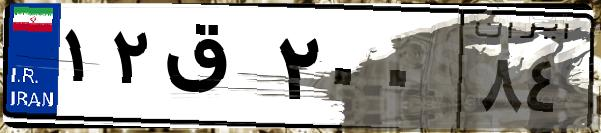0: (385, 28, 445, 110), (330, 28, 385, 110)
1: (57, 26, 110, 100)
2: (270, 28, 330, 110), (110, 28, 158, 98)
4: (525, 38, 570, 115)
8: (475, 38, 525, 113)
ق: (158, 20, 270, 120)
